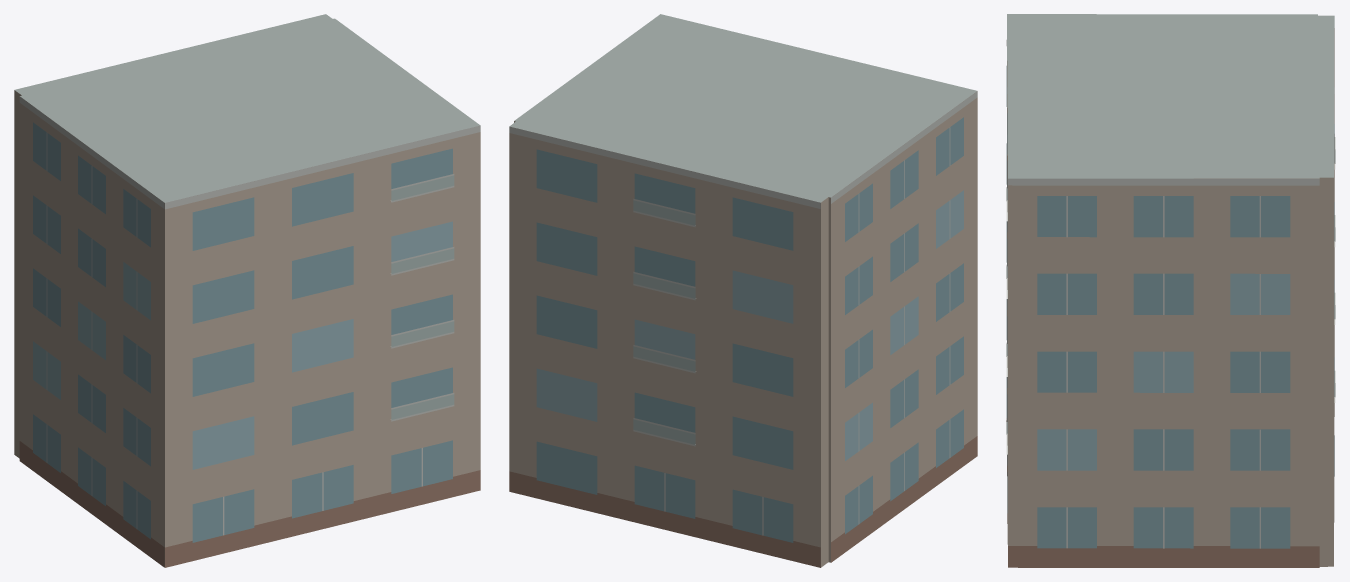
File: survey-upis-32697298.glb
The picture shows the model from 3 angles, left to right: view 1: azimuth 30°, elevation 25°; view 2: azimuth 150°, elevation 25°; view 3: azimuth 270°, elevation 25°; orthographic projection. The views are drawn at different scales.
Parts seen in each view (by area): view 1: survey-upis-32697298.tmp; view 2: survey-upis-32697298.tmp; view 3: survey-upis-32697298.tmp.
Part boxes in pixels (x1,y1,x2,y2): survey-upis-32697298.tmp: (14,14,480,567); survey-upis-32697298.tmp: (509,14,977,567); survey-upis-32697298.tmp: (1006,14,1335,567).
Size of the model in its own units: 12.54 by 13.8 by 10.58.
